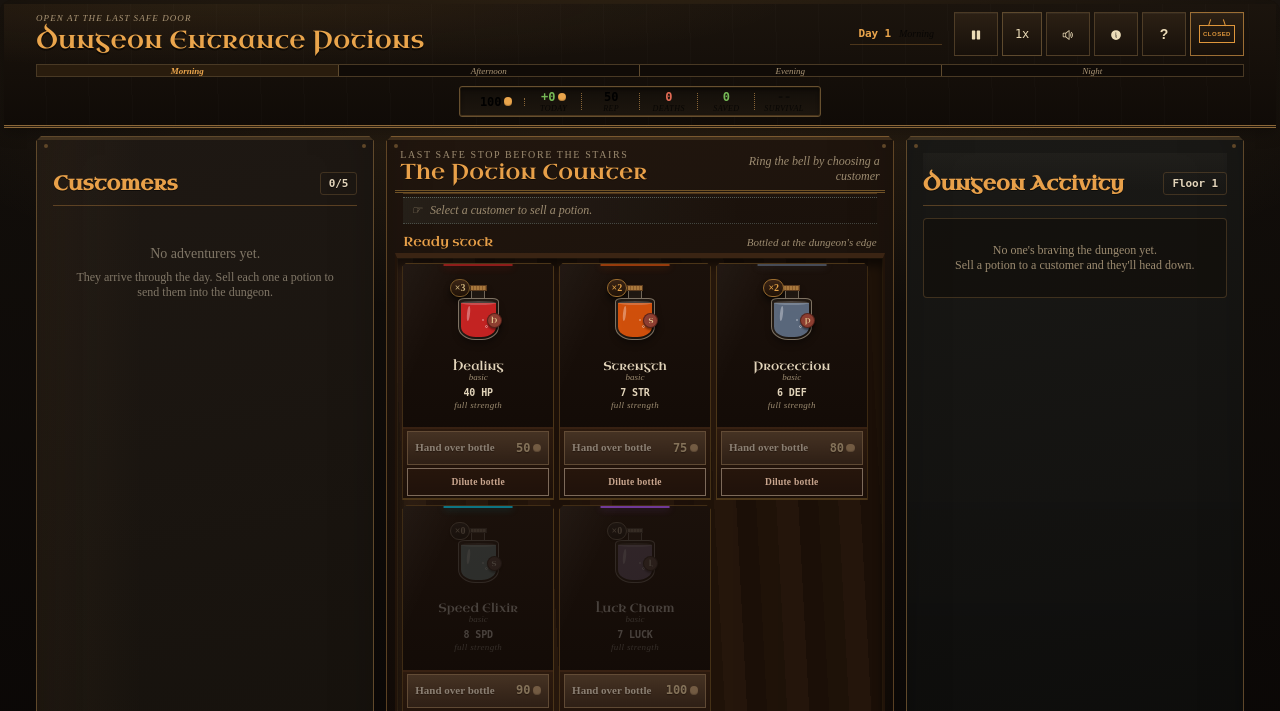
Test case: PotionStandComponent › Replay Tutorial — "How to Play" (WS2a) › should reopen the tutorial overlay when the header "How to Play" control is clicked
Click the button with class "tutorial-btn". click: [1116, 34]
box: [1094, 12, 1138, 56]
(page scrolled)
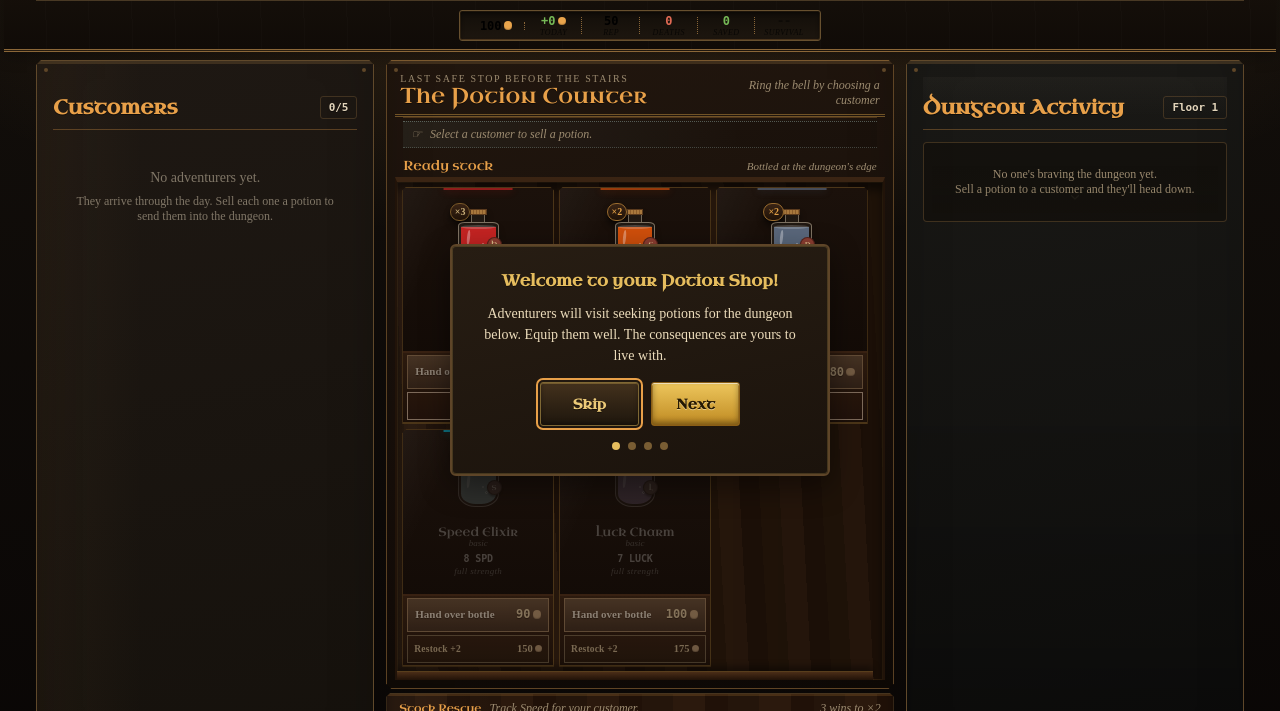
Result: the dialog with class "tutorial-overlay" is shown at [450, 244, 830, 476]
